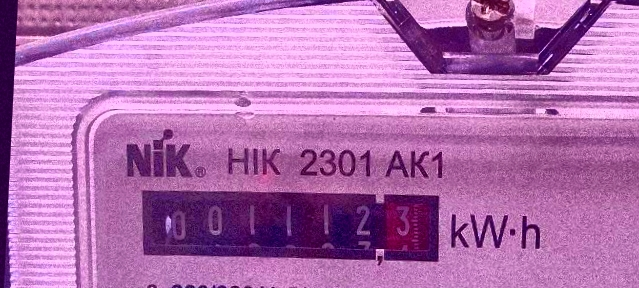0: (203, 201, 226, 240), (166, 206, 190, 242)
1: (242, 199, 262, 238), (280, 200, 296, 239), (318, 200, 334, 238)
2: (351, 202, 375, 239)
3: (392, 203, 412, 239)
screen: (132, 177, 448, 273)
